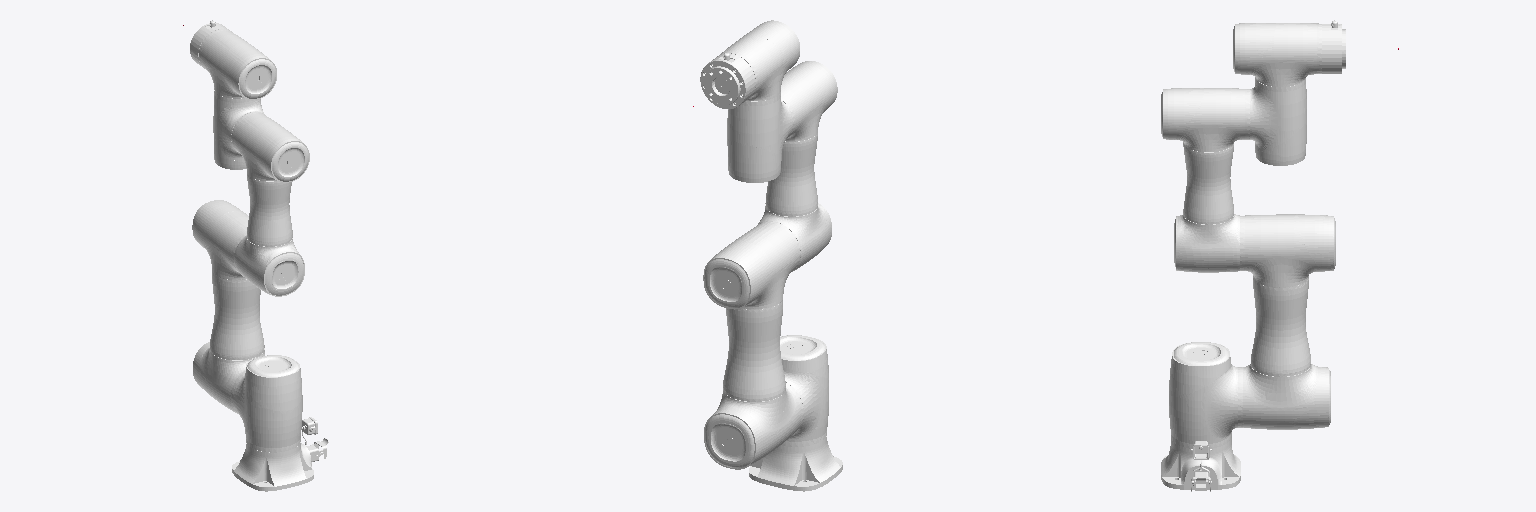
robot.urdf — cr3_robot:
<?xml version="1.0" ?>
<robot name="cr3_robot">
	<link name="world">
		<inertial>
			<origin rpy="0.00000 -0.00000 0.00000" xyz="0.00000 0.00000 0.00000"/>
			<mass value="0.00000"/>
			<inertia ixx="0.00000" ixy="0" ixz="0" iyy="0.00000" iyz="0" izz="0.00000"/>
		</inertial>
	</link>
	<link name="base_link">
		<inertial>
			<origin rpy="0.00000 -0.00000 0.00000" xyz="-0.00272 0.00000 0.02204"/>
			<mass value="0.65300"/>
			<inertia ixx="0.00150" ixy="0" ixz="0" iyy="0.00228" iyz="0" izz="0.00280"/>
		</inertial>
		<visual>
			<origin rpy="0.00000 -0.00000 0.00000" xyz="0.00000 0.00000 0.00000"/>
			<geometry>
				<mesh filename="../robot_arm_assets/cr3/meshes/base_link.STL" scale="1.00000 1.00000 1.00000"/>
			</geometry>
			<material name="mat_0">
				<color rgba="1.00000 1.00000 1.00000 1.00000" />
			</material>
		</visual>
		<collision>
			<origin rpy="0.00000 -0.00000 0.00000" xyz="0.00000 0.00000 0.00000"/>
			<geometry>
				<mesh filename="../robot_arm_assets/cr3/meshes/base_link.STL" scale="1.00000 1.00000 1.00000"/>
			</geometry>
		</collision>
	</link>
	<link name="Link1">
		<inertial>
			<origin rpy="0.00000 -0.00000 0.00000" xyz="-0.00004 -0.00395 0.00364"/>
			<mass value="1.31101"/>
			<inertia ixx="0.00417" ixy="0" ixz="0" iyy="0.00400" iyz="0" izz="0.00282"/>
		</inertial>
		<visual>
			<origin rpy="0.00000 -0.00000 0.00000" xyz="0.00000 0.00000 0.00000"/>
			<geometry>
				<mesh filename="../robot_arm_assets/cr3/meshes/Link1.STL" scale="1.00000 1.00000 1.00000"/>
			</geometry>
			<material name="mat_1">
				<color rgba="1.00000 1.00000 1.00000 1.00000" />
			</material>
		</visual>
		<collision>
			<origin rpy="0.00000 -0.00000 0.00000" xyz="0.00000 0.00000 0.00000"/>
			<geometry>
				<mesh filename="../robot_arm_assets/cr3/meshes/Link1.STL" scale="1.00000 1.00000 1.00000"/>
			</geometry>
		</collision>
	</link>
	<link name="Link2">
		<inertial>
			<origin rpy="0.00000 -0.00000 0.00000" xyz="-0.12924 0.00001 0.13317"/>
			<mass value="3.40044"/>
			<inertia ixx="0.01108" ixy="0" ixz="0" iyy="0.04822" iyz="0" izz="0.04400"/>
		</inertial>
		<visual>
			<origin rpy="0.00000 -0.00000 0.00000" xyz="0.00000 0.00000 0.00000"/>
			<geometry>
				<mesh filename="../robot_arm_assets/cr3/meshes/Link2.STL" scale="1.00000 1.00000 1.00000"/>
			</geometry>
			<material name="mat_2">
				<color rgba="1.00000 1.00000 1.00000 1.00000" />
			</material>
		</visual>
		<collision>
			<origin rpy="0.00000 -0.00000 0.00000" xyz="0.00000 0.00000 0.00000"/>
			<geometry>
				<mesh filename="../robot_arm_assets/cr3/meshes/Link2.STL" scale="1.00000 1.00000 1.00000"/>
			</geometry>
		</collision>
	</link>
	<link name="Link3">
		<inertial>
			<origin rpy="0.00000 -0.00000 0.00000" xyz="-0.11982 0.00000 0.00999"/>
			<mass value="2.21449"/>
			<inertia ixx="0.00597" ixy="0" ixz="0" iyy="0.02366" iyz="0" izz="0.02138"/>
		</inertial>
		<visual>
			<origin rpy="0.00000 -0.00000 0.00000" xyz="0.00000 0.00000 0.00000"/>
			<geometry>
				<mesh filename="../robot_arm_assets/cr3/meshes/Link3.STL" scale="1.00000 1.00000 1.00000"/>
			</geometry>
			<material name="mat_3">
				<color rgba="1.00000 1.00000 1.00000 1.00000" />
			</material>
		</visual>
		<collision>
			<origin rpy="0.00000 -0.00000 0.00000" xyz="0.00000 0.00000 0.00000"/>
			<geometry>
				<mesh filename="../robot_arm_assets/cr3/meshes/Link3.STL" scale="1.00000 1.00000 1.00000"/>
			</geometry>
		</collision>
	</link>
	<link name="Link4">
		<inertial>
			<origin rpy="0.00000 -0.00000 0.00000" xyz="0.00000 0.00345 -0.00287"/>
			<mass value="0.84227"/>
			<inertia ixx="0.00223" ixy="0" ixz="0" iyy="0.00124" iyz="0" izz="0.00215"/>
		</inertial>
		<visual>
			<origin rpy="0.00000 -0.00000 0.00000" xyz="0.00000 0.00000 0.00000"/>
			<geometry>
				<mesh filename="../robot_arm_assets/cr3/meshes/Link4.STL" scale="1.00000 1.00000 1.00000"/>
			</geometry>
			<material name="mat_4">
				<color rgba="1.00000 1.00000 1.00000 1.00000" />
			</material>
		</visual>
		<collision>
			<origin rpy="0.00000 -0.00000 0.00000" xyz="0.00000 0.00000 0.00000"/>
			<geometry>
				<mesh filename="../robot_arm_assets/cr3/meshes/Link4.STL" scale="1.00000 1.00000 1.00000"/>
			</geometry>
		</collision>
	</link>
	<link name="Link5">
		<inertial>
			<origin rpy="0.00000 -0.00000 0.00000" xyz="-0.00000 -0.00333 -0.00287"/>
			<mass value="0.84369"/>
			<inertia ixx="0.00224" ixy="0" ixz="0" iyy="0.00125" iyz="0" izz="0.00216"/>
		</inertial>
		<visual>
			<origin rpy="0.00000 -0.00000 0.00000" xyz="0.00000 0.00000 0.00000"/>
			<geometry>
				<mesh filename="../robot_arm_assets/cr3/meshes/Link5.STL" scale="1.00000 1.00000 1.00000"/>
			</geometry>
			<material name="mat_5">
				<color rgba="1.00000 1.00000 1.00000 1.00000" />
			</material>
		</visual>
		<collision>
			<origin rpy="0.00000 -0.00000 0.00000" xyz="0.00000 0.00000 0.00000"/>
			<geometry>
				<mesh filename="../robot_arm_assets/cr3/meshes/Link5.STL" scale="1.00000 1.00000 1.00000"/>
			</geometry>
		</collision>
	</link>
	<link name="Link6">
		<inertial>
			<origin rpy="0.00000 -0.00000 0.00000" xyz="-0.00000 0.00027 -0.02014"/>
			<mass value="0.15941"/>
			<inertia ixx="0.00015" ixy="0" ixz="0" iyy="0.00013" iyz="0" izz="0.00023"/>
		</inertial>
		<visual>
			<origin rpy="0.00000 -0.00000 0.00000" xyz="0.00000 0.00000 0.00000"/>
			<geometry>
				<mesh filename="../robot_arm_assets/cr3/meshes/Link6.STL" scale="1.00000 1.00000 1.00000"/>
			</geometry>
			<material name="mat_6">
				<color rgba="1.00000 1.00000 1.00000 1.00000" />
			</material>
		</visual>
		<collision>
			<origin rpy="0.00000 -0.00000 0.00000" xyz="0.00000 0.00000 0.00000"/>
			<geometry>
				<mesh filename="../robot_arm_assets/cr3/meshes/Link6.STL" scale="1.00000 1.00000 1.00000"/>
			</geometry>
		</collision>
	</link>
	<link name="ee_link">
		<inertial>
			<origin rpy="-3.14000 -0.00000 1.57000" xyz="0.00000 0.00000 0.00000"/>
			<mass value="0.00000"/>
			<inertia ixx="0.00000" ixy="0" ixz="0" iyy="0.00000" iyz="0" izz="0.00000"/>
		</inertial>
		<visual>
			<origin rpy="0.00000 -0.00000 0.00000" xyz="0.00000 0.00000 0.00000"/>
			<geometry>
				<sphere radius="0.00100"/>
			</geometry>
			<material name="mat_7">
				<color rgba="1.00000 1.00000 1.00000 1.00000" />
			</material>
		</visual>
		<collision>
			<origin rpy="0.00000 -0.00000 0.00000" xyz="0.00000 0.00000 0.00000"/>
			<geometry>
				<sphere radius="0.00100"/>
			</geometry>
		</collision>
	</link>
	<link name="tactip_body_link">
		<inertial>
			<origin rpy="0.00000 -0.00000 0.00000" xyz="0.00000 0.00000 0.00000"/>
			<mass value="0.25000"/>
			<inertia ixx="0.00022" ixy="0" ixz="0" iyy="0.00021" iyz="0" izz="0.00021"/>
		</inertial>
		<visual>
			<origin rpy="0.00000 -0.00000 0.00000" xyz="0.00000 0.00000 0.00000"/>
			<geometry>
				<mesh filename="../sensor_assets/standard_tactip/body/tactip_body.obj" scale="1.00000 1.00000 1.00000"/>
			</geometry>
			<material name="mat_8">
				<color rgba="0.80000 0.80000 0.80000 1.00000" />
			</material>
		</visual>
		<collision>
			<origin rpy="0.00000 -0.00000 0.00000" xyz="0.00000 0.00000 0.00000"/>
			<geometry>
				<mesh filename="../sensor_assets/standard_tactip/body/tactip_body.obj" scale="1.00000 1.00000 1.00000"/>
			</geometry>
		</collision>
	</link>
	<link name="tactip_tip_link">
		<inertial>
			<origin rpy="0.00000 -0.00000 0.00000" xyz="0.00000 0.00000 0.00000"/>
			<mass value="0.01000"/>
			<inertia ixx="0.00000" ixy="0" ixz="0" iyy="0.00000" iyz="0" izz="0.00000"/>
		</inertial>
		<visual>
			<origin rpy="0.00000 -0.00000 0.00000" xyz="0.00000 0.00000 0.00000"/>
			<geometry>
				<mesh filename="../sensor_assets/standard_tactip/tip/skin.obj" scale="1.00000 1.00000 1.00000"/>
			</geometry>
			<material name="mat_9">
				<color rgba="0.00000 0.00000 0.00000 1.00000" />
			</material>
		</visual>
		<collision>
			<origin rpy="0.00000 -0.00000 0.00000" xyz="0.00000 0.00000 0.00000"/>
			<geometry>
				<mesh filename="../sensor_assets/standard_tactip/tip/core.obj" scale="1.00000 1.00000 1.00000"/>
			</geometry>
		</collision>
	</link>
	<link name="tcp_link">
		<inertial>
			<origin rpy="0.00000 -0.00000 1.57000" xyz="0.00000 0.00000 0.00000"/>
			<mass value="0.00000"/>
			<inertia ixx="0.00000" ixy="0" ixz="0" iyy="0.00000" iyz="0" izz="0.00000"/>
		</inertial>
		<visual>
			<origin rpy="0.00000 -0.00000 0.00000" xyz="0.00000 0.00000 0.00000"/>
			<geometry>
				<sphere radius="0.00100"/>
			</geometry>
			<material name="mat_10">
				<color rgba="0.90000 0.00000 0.20000 0.50000" />
			</material>
		</visual>
	</link>
	<joint name="world_joint" type="fixed">
		<parent link="world"/>
		<child link="base_link"/>
		<dynamics damping="1.0" friction="0.0001"/>
		<origin rpy="0.00000 -0.00000 -3.14000" xyz="0.00000 0.00000 0.00000"/>
		<axis xyz="0.00000 0.00000 0.00000"/>
	</joint>
	<joint name="joint1" type="revolute">
		<parent link="base_link"/>
		<child link="Link1"/>
		<limit effort="0.00000" lower="-3.14000" upper="3.14000" velocity="0.00000"/>
		<dynamics damping="1.0" friction="0.0001"/>
		<origin rpy="0.00000 -0.00000 0.00000" xyz="0.00000 0.00000 0.12830"/>
		<axis xyz="0.00000 0.00000 1.00000"/>
	</joint>
	<joint name="joint2" type="revolute">
		<parent link="Link1"/>
		<child link="Link2"/>
		<limit effort="0.00000" lower="-3.14000" upper="3.14000" velocity="0.00000"/>
		<dynamics damping="1.0" friction="0.0001"/>
		<origin rpy="0.00000 1.57080 4.71239" xyz="0.00000 0.00000 0.00000"/>
		<axis xyz="0.00000 0.00000 1.00000"/>
	</joint>
	<joint name="joint3" type="revolute">
		<parent link="Link2"/>
		<child link="Link3"/>
		<limit effort="0.00000" lower="-2.86000" upper="2.86000" velocity="0.00000"/>
		<dynamics damping="1.0" friction="0.0001"/>
		<origin rpy="0.00000 -0.00000 0.00000" xyz="-0.27400 0.00000 0.00000"/>
		<axis xyz="0.00000 0.00000 1.00000"/>
	</joint>
	<joint name="joint4" type="revolute">
		<parent link="Link3"/>
		<child link="Link4"/>
		<limit effort="0.00000" lower="-3.14000" upper="3.14000" velocity="0.00000"/>
		<dynamics damping="1.0" friction="0.0001"/>
		<origin rpy="0.00000 0.00000 -1.57080" xyz="-0.23000 0.00000 0.12830"/>
		<axis xyz="0.00000 0.00000 1.00000"/>
	</joint>
	<joint name="joint5" type="revolute">
		<parent link="Link4"/>
		<child link="Link5"/>
		<limit effort="0.00000" lower="-3.14000" upper="3.14000" velocity="0.00000"/>
		<dynamics damping="1.0" friction="0.0001"/>
		<origin rpy="1.57080 -0.00000 0.00000" xyz="0.00000 -0.11600 0.00000"/>
		<axis xyz="0.00000 0.00000 1.00000"/>
	</joint>
	<joint name="joint6" type="revolute">
		<parent link="Link5"/>
		<child link="Link6"/>
		<limit effort="0.00000" lower="-6.28000" upper="6.28000" velocity="0.00000"/>
		<dynamics damping="1.0" friction="0.0001"/>
		<origin rpy="-1.57080 0.00000 0.00000" xyz="0.00000 0.10500 0.00000"/>
		<axis xyz="0.00000 0.00000 1.00000"/>
	</joint>
	<joint name="ee_joint" type="fixed">
		<parent link="Link6"/>
		<child link="ee_link"/>
		<dynamics damping="1.0" friction="0.0001"/>
		<origin rpy="3.14000 -0.00000 -0.00000" xyz="0.00000 0.00000 0.00000"/>
		<axis xyz="0.00000 0.00000 0.00000"/>
	</joint>
	<joint name="joint_dummy1" type="fixed">
		<parent link="ee_link"/>
		<child link="tactip_body_link"/>
		<dynamics damping="1.0" friction="0.0001"/>
		<origin rpy="-3.14159 0.00000 3.14159" xyz="0.00000 0.00000 0.00000"/>
		<axis xyz="0.00000 0.00000 1.00000"/>
	</joint>
	<joint name="tactip_tip_to_body" type="fixed">
		<parent link="tactip_body_link"/>
		<child link="tactip_tip_link"/>
		<dynamics damping="1.0" friction="0.0001"/>
		<origin rpy="1.57000 -0.00000 0.00000" xyz="0.00000 0.00000 0.06500"/>
		<axis xyz="0.00000 0.00000 0.00000"/>
	</joint>
	<joint name="tcp_joint" type="fixed">
		<parent link="tactip_body_link"/>
		<child link="tcp_link"/>
		<dynamics damping="1.0" friction="0.0001"/>
		<origin rpy="0.00000 -0.00000 0.00000" xyz="0.00000 0.00000 0.08500"/>
		<axis xyz="0.00000 0.00000 0.00000"/>
	</joint>
</robot>

--- Render facts (derived) ---
The picture shows the robot from 3 angles, left to right: view 1: azimuth 30°, elevation 25°; view 2: azimuth 150°, elevation 25°; view 3: azimuth 270°, elevation 25°; orthographic projection.
Model cr3_robot with 12 links and 11 joints (6 revolute, 5 fixed), rooted at world, posed all joints at 0.
Visible links, largest first — view 1: Link3, Link2, Link1, Link5, base_link, Link4; view 2: Link2, Link3, Link4, Link1, Link5, base_link, Link6; view 3: Link2, Link3, Link1, Link5, Link4, base_link, Link6.
Boxes of the visible links, x1,y1,x2,y2 form: Link3: (231,112,309,296); Link2: (192,200,264,413); Link1: (233,355,302,452); Link5: (199,29,276,99); base_link: (232,417,328,491); Link4: (213,90,263,169); Link2: (703,221,803,469); Link3: (758,61,837,271); Link4: (727,92,792,182); Link1: (780,335,828,446); Link5: (717,20,799,100); base_link: (749,436,842,491); Link6: (700,53,755,109); Link2: (1238,214,1335,429); Link3: (1161,88,1249,272); Link1: (1169,342,1237,448); Link5: (1233,23,1321,86); Link4: (1250,78,1306,165); base_link: (1161,437,1240,491); Link6: (1322,20,1345,73).
Bounding box of the posed robot: 0.1753 × 0.3843 × 0.8041 m (x, y, z).
7 mesh visuals loaded from 9 distinct referenced files (7 binary STL); not drawn: 2 (reference not matched to a file when rendering).